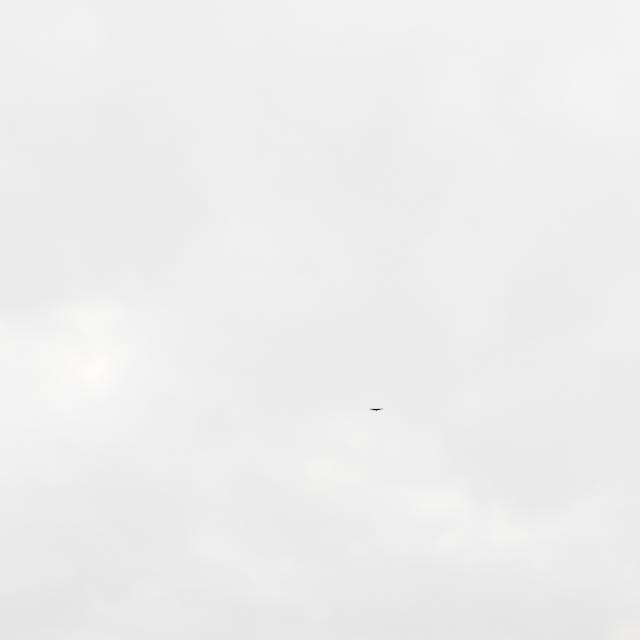Airaplan: (369, 407, 384, 412)
